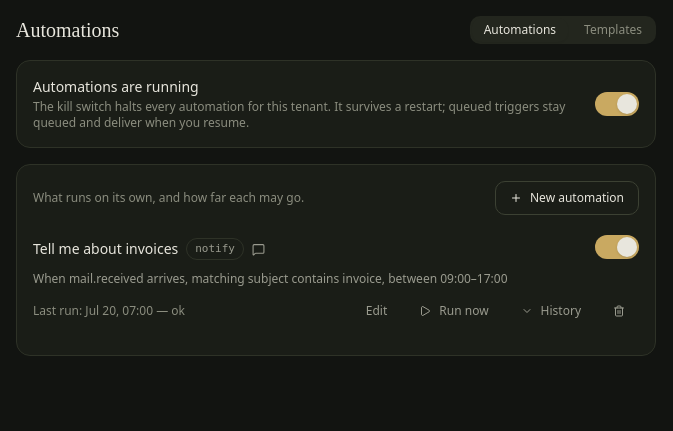
Scenario: AutomationsScreen › shows a quiet run's reason in the history, not as a failure (#706)
The width and height of the screenshot is (673, 431).
Click the button "History" at (551,311), box [507,295,595,327]
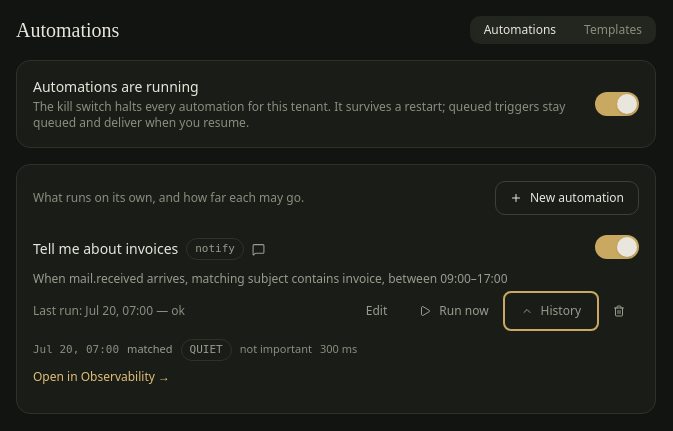
Now the text "quiet" is shown, box [181,339,232,361]
Now the text "not important" is shown, box [240,341,312,358]
